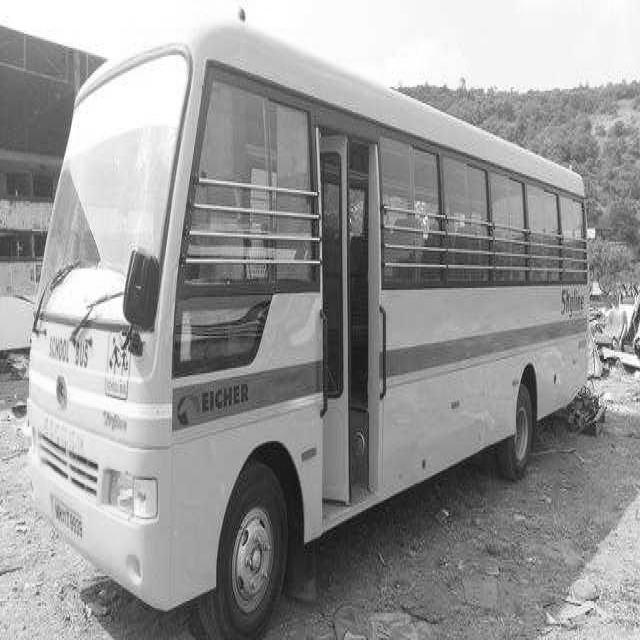Bus: (28, 20, 590, 637)
